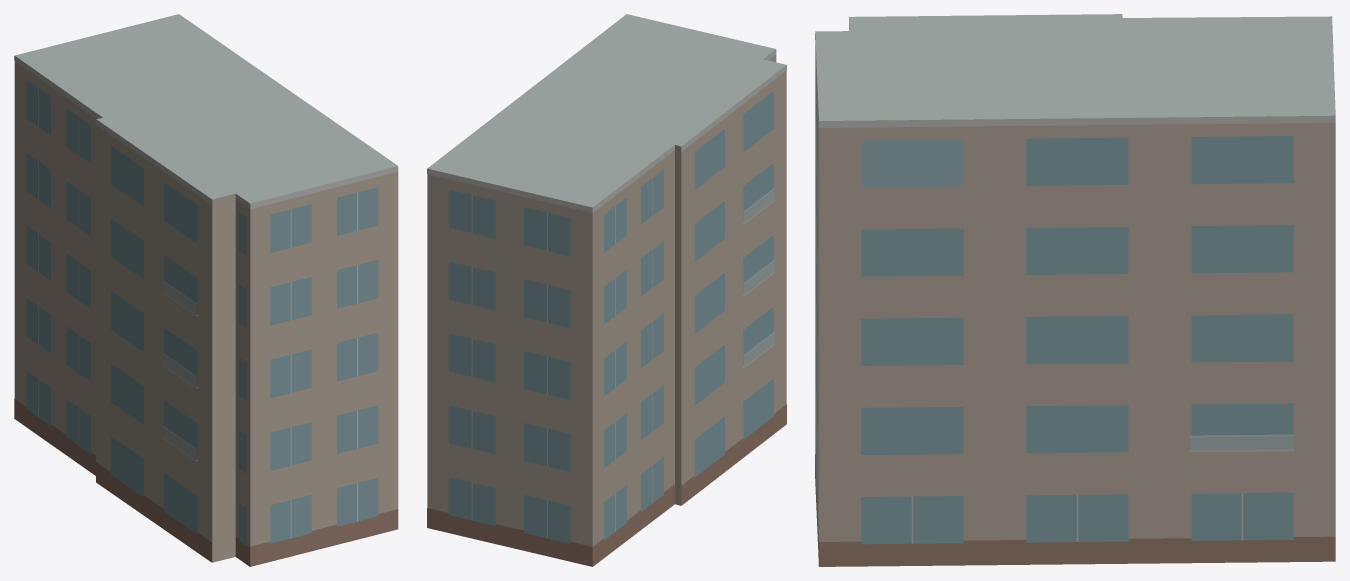
The model's file is survey-upis-32615342.glb.
The picture shows the model from 3 angles, left to right: view 1: azimuth 30°, elevation 25°; view 2: azimuth 150°, elevation 25°; view 3: azimuth 270°, elevation 25°; orthographic projection. The views are drawn at different scales.
Parts seen in each view (by area): view 1: survey-upis-32615342.tmp; view 2: survey-upis-32615342.tmp; view 3: survey-upis-32615342.tmp.
Boxes of the visible parts, left/top/right/bottom form: survey-upis-32615342.tmp: left=14, top=14, right=398, bottom=566; survey-upis-32615342.tmp: left=427, top=14, right=786, bottom=566; survey-upis-32615342.tmp: left=815, top=14, right=1335, bottom=566.
Bounding box in the file's own units: 8.2 × 15.9 × 16.83.
